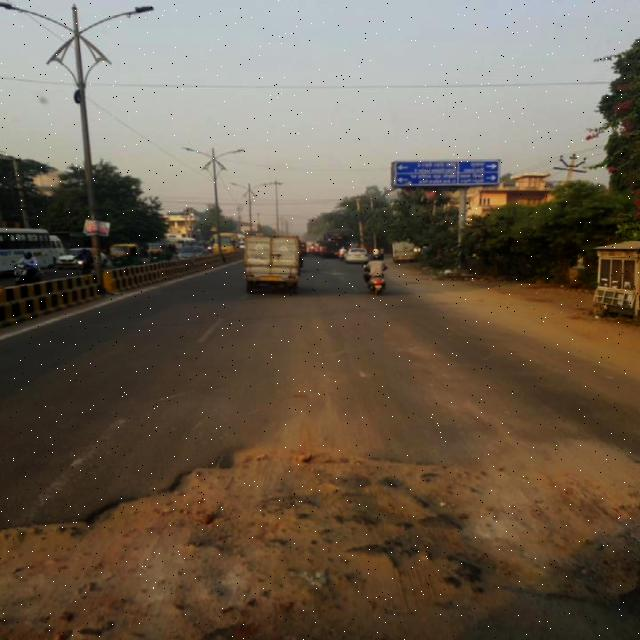D44: (29, 389, 143, 519)
